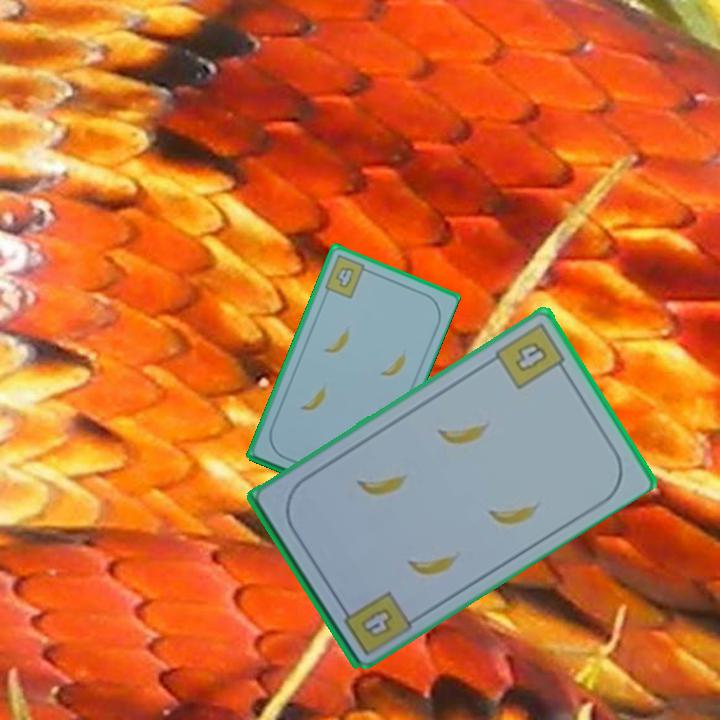4b: (491, 319, 571, 392), (321, 251, 373, 301), (361, 607, 392, 637)
